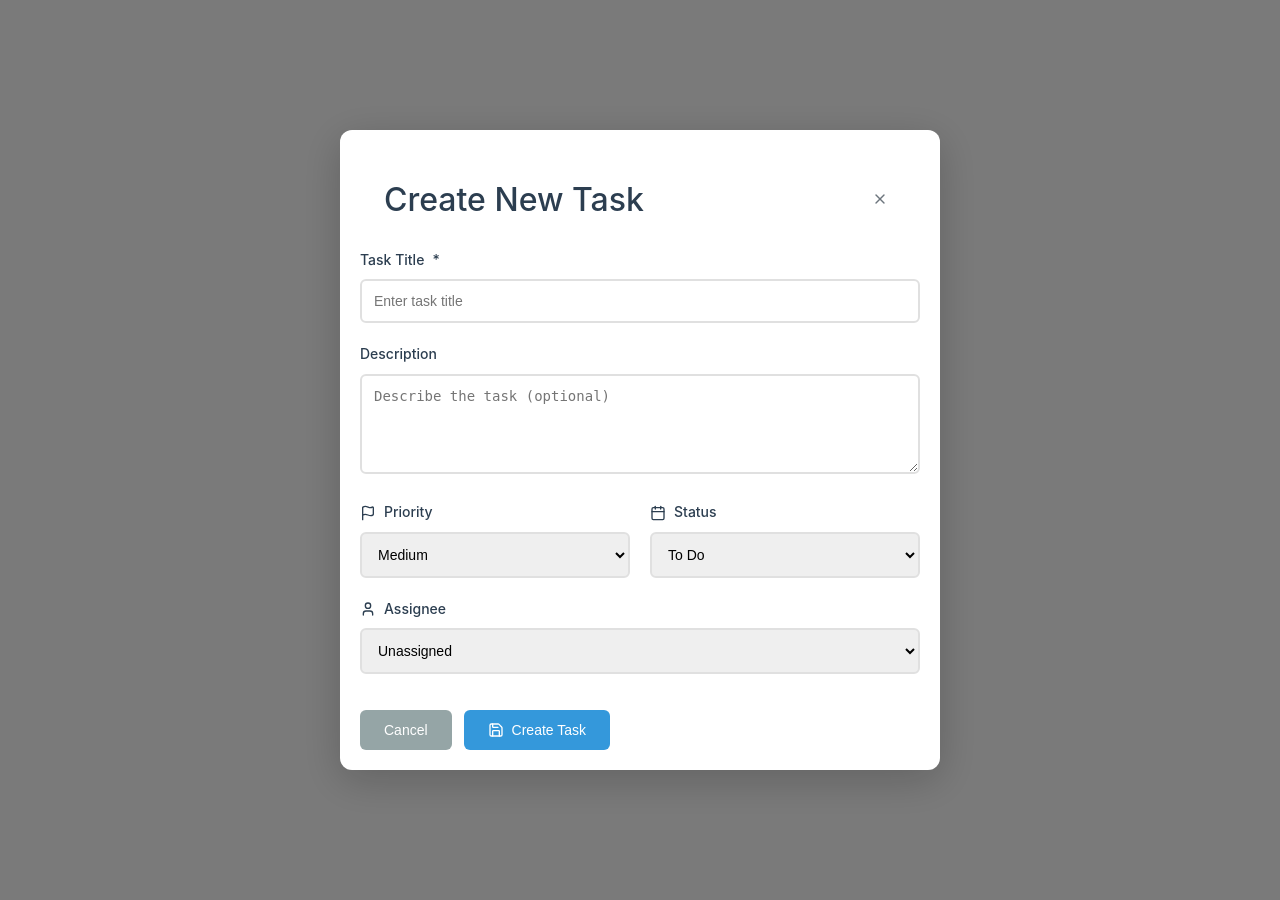
Test case: TaskModal › clears validation errors when user starts typing
The width and height of the screenshot is (1280, 900).
Note: Trigger validation error
Click the button "Create Task": {"x": 537, "y": 730} [464,710,610,750]
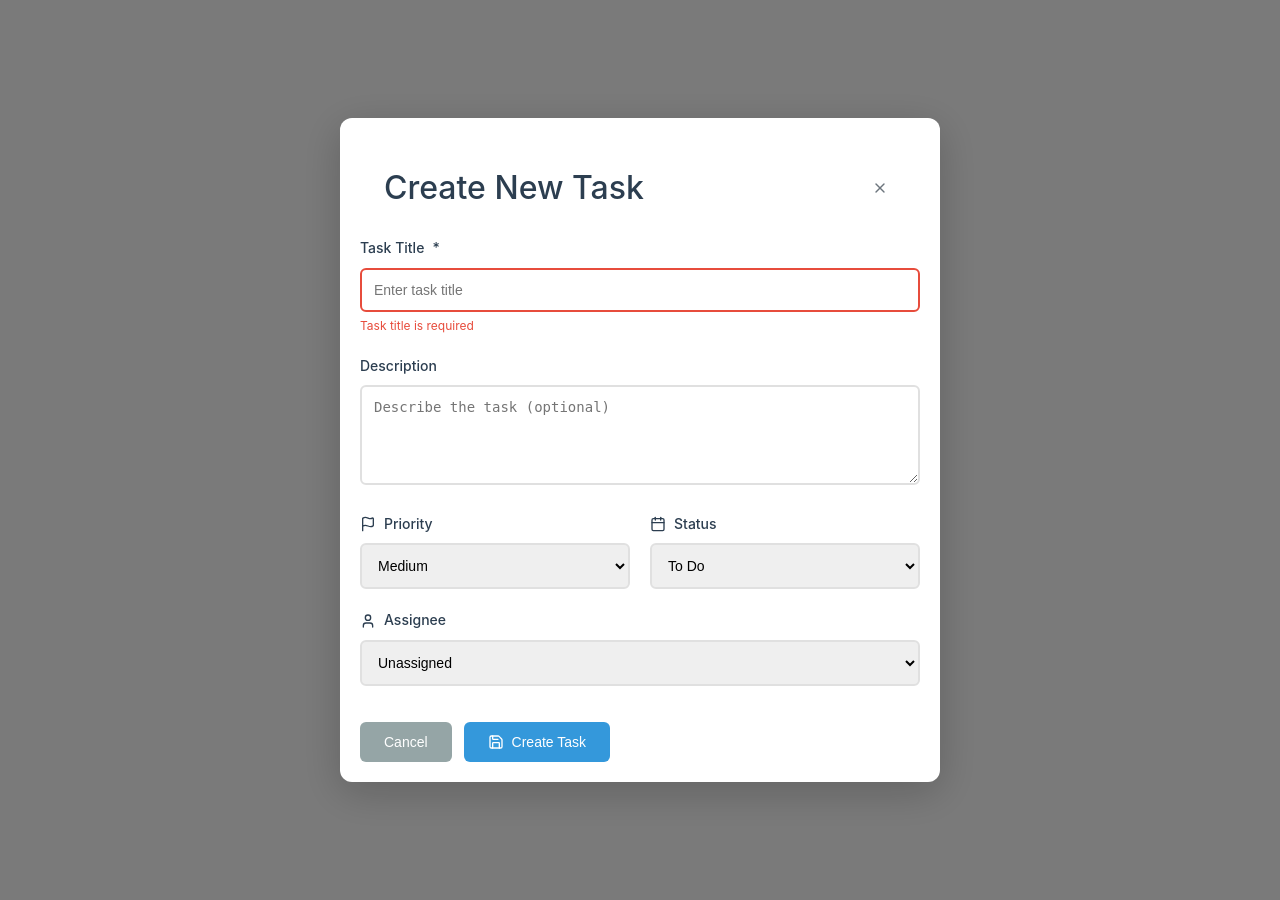
Expected: the text "Task title is required" is shown, [360,318,474,333]
Note: Start typing to clear error
In the field labelled "Task Title *": {"x": 640, "y": 290} [360,268,920,312], type "New task"
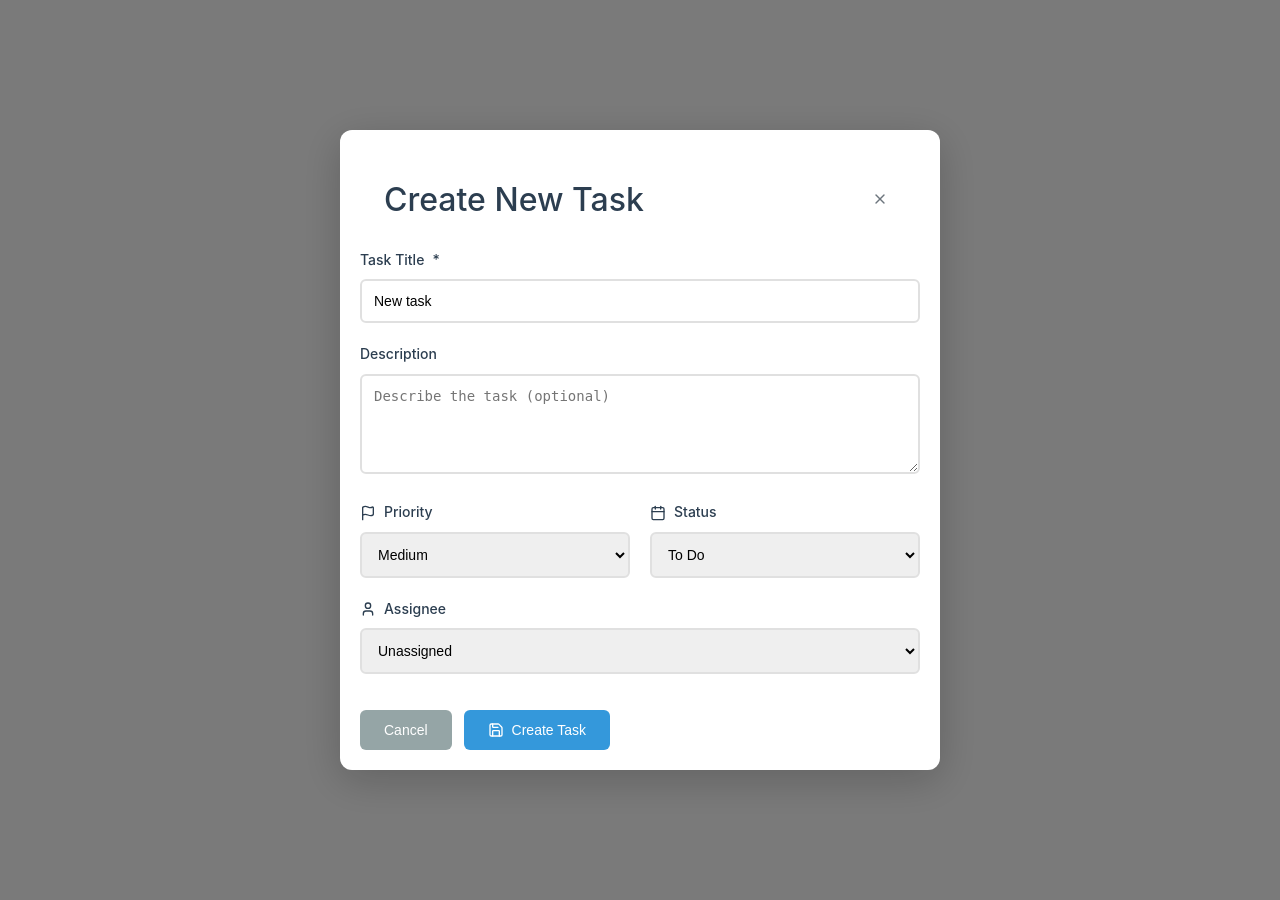
Expected: the text "Task title is required" is gone
